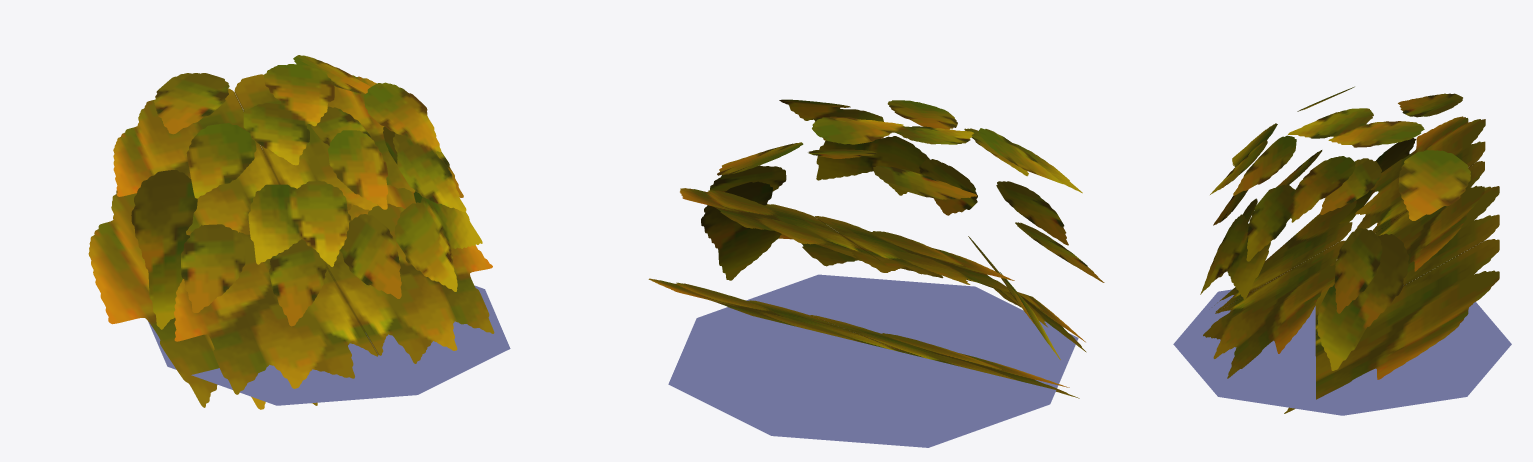
Rendered from fg_bushD_2_re.fbx.
3 views of the same model, side by side, from view 1: azimuth 30°, elevation 25°; view 2: azimuth 150°, elevation 25°; view 3: azimuth 270°, elevation 25° (orthographic). The views are drawn at different scales.
Visible parts, largest first — view 1: fg_bushD_2_re, sdw_circle; view 2: sdw_circle, fg_bushD_2_re; view 3: fg_bushD_2_re, sdw_circle.
Boxes of the visible parts, <box> form: fg_bushD_2_re: <box>88,55,494,409</box>; sdw_circle: <box>148,285,510,405</box>; sdw_circle: <box>668,274,1078,447</box>; fg_bushD_2_re: <box>648,99,1104,398</box>; fg_bushD_2_re: <box>1200,86,1499,413</box>; sdw_circle: <box>1173,284,1511,415</box>.
Size of the model in its own units: 0.1495 by 0.1263 by 0.1193.
